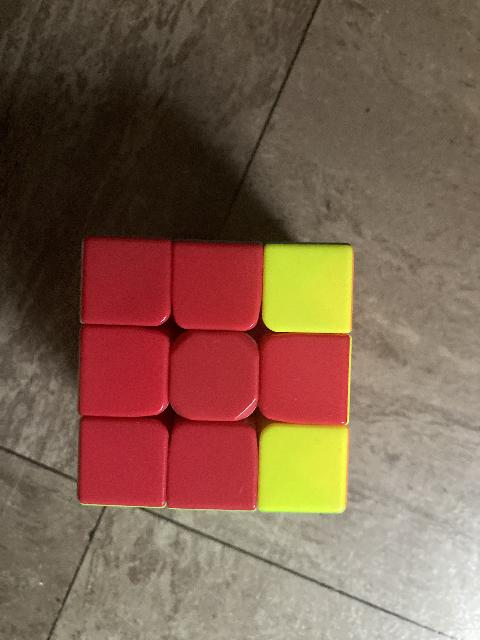Red: (79, 326, 164, 412), (83, 420, 165, 508), (82, 240, 170, 320), (176, 244, 256, 330), (175, 335, 254, 419), (266, 336, 344, 419), (173, 424, 251, 506)
Yellow: (260, 428, 346, 510), (269, 248, 349, 332)
